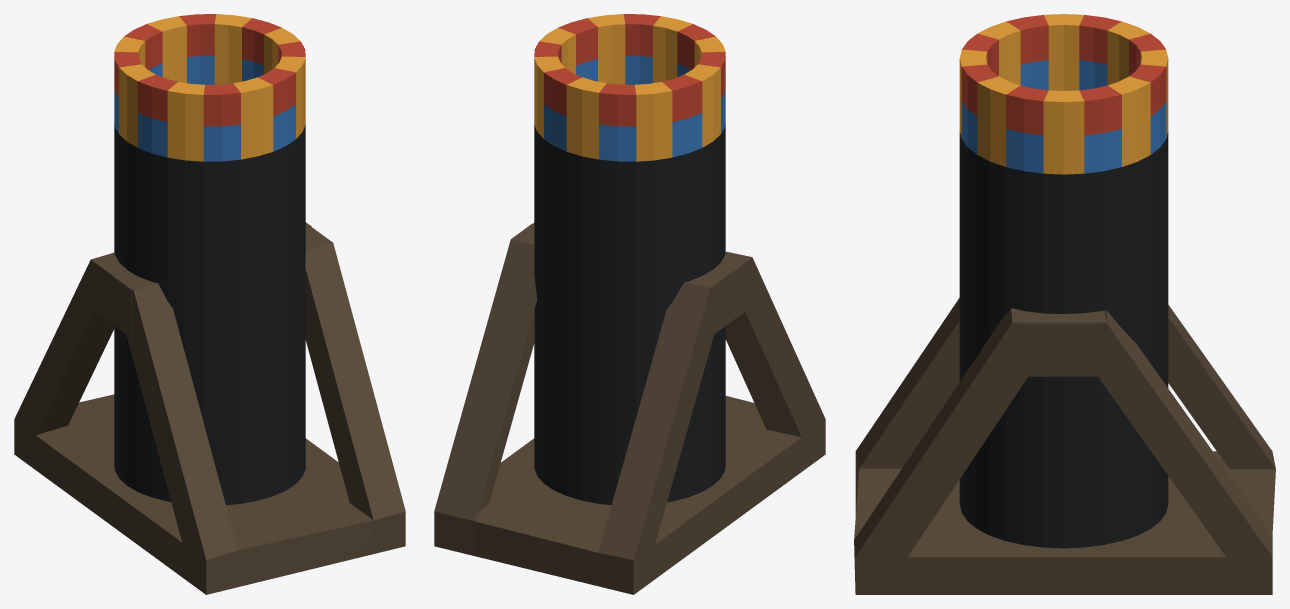
File: Mortar_SUPerBUrst.fbx
3 renders of one model, left to right at view 1: azimuth 30°, elevation 25°; view 2: azimuth 150°, elevation 25°; view 3: azimuth 270°, elevation 25°, orthographic. The views are drawn at different scales.
Parts seen in each view (by area): view 1: Cylinder, Cube.001, Cube; view 2: Cylinder, Cube.001, Cube; view 3: Cylinder, Cube.001, Cube.002.
Boxes of the visible parts, bbox=[...] form: Cylinder: bbox=[114, 14, 305, 505]; Cube.001: bbox=[14, 222, 405, 594]; Cube: bbox=[95, 275, 131, 338]; Cylinder: bbox=[534, 14, 725, 504]; Cube.001: bbox=[434, 223, 825, 594]; Cube: bbox=[714, 259, 750, 333]; Cylinder: bbox=[959, 14, 1168, 548]; Cube.001: bbox=[854, 298, 1275, 594]; Cube.002: bbox=[1017, 323, 1100, 376].
Bounding box in the file's own units: 60.06 × 128 × 101.
Materials: 1 (1 with a texture image).
